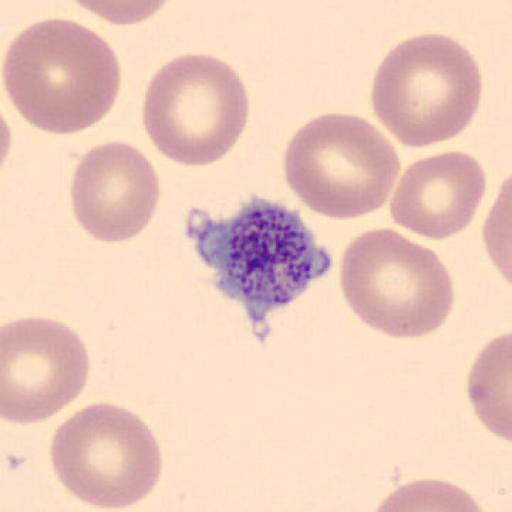RBC: (2, 15, 122, 137), (369, 32, 484, 149), (338, 226, 456, 340), (282, 110, 402, 220), (48, 400, 164, 510), (141, 51, 250, 168), (1, 315, 91, 425), (68, 139, 161, 245), (388, 148, 488, 243), (468, 330, 512, 446), (367, 476, 490, 512), (482, 174, 512, 290), (61, 0, 177, 27), (0, 104, 13, 178)
